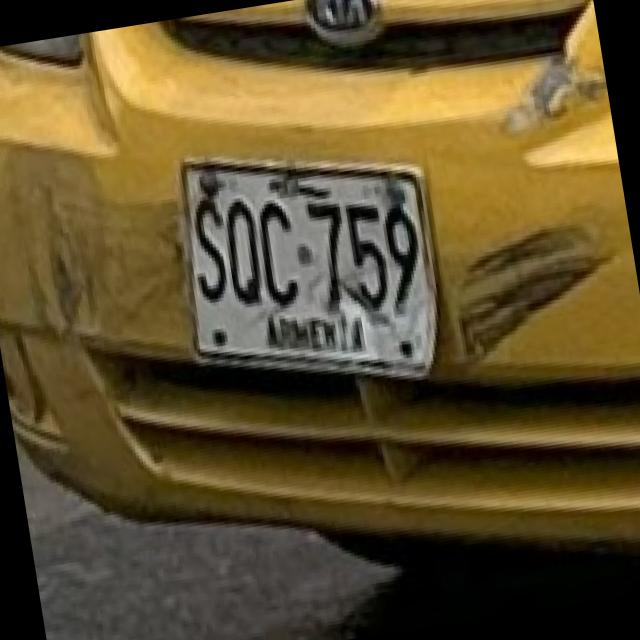number plate: (180, 159, 431, 373)
